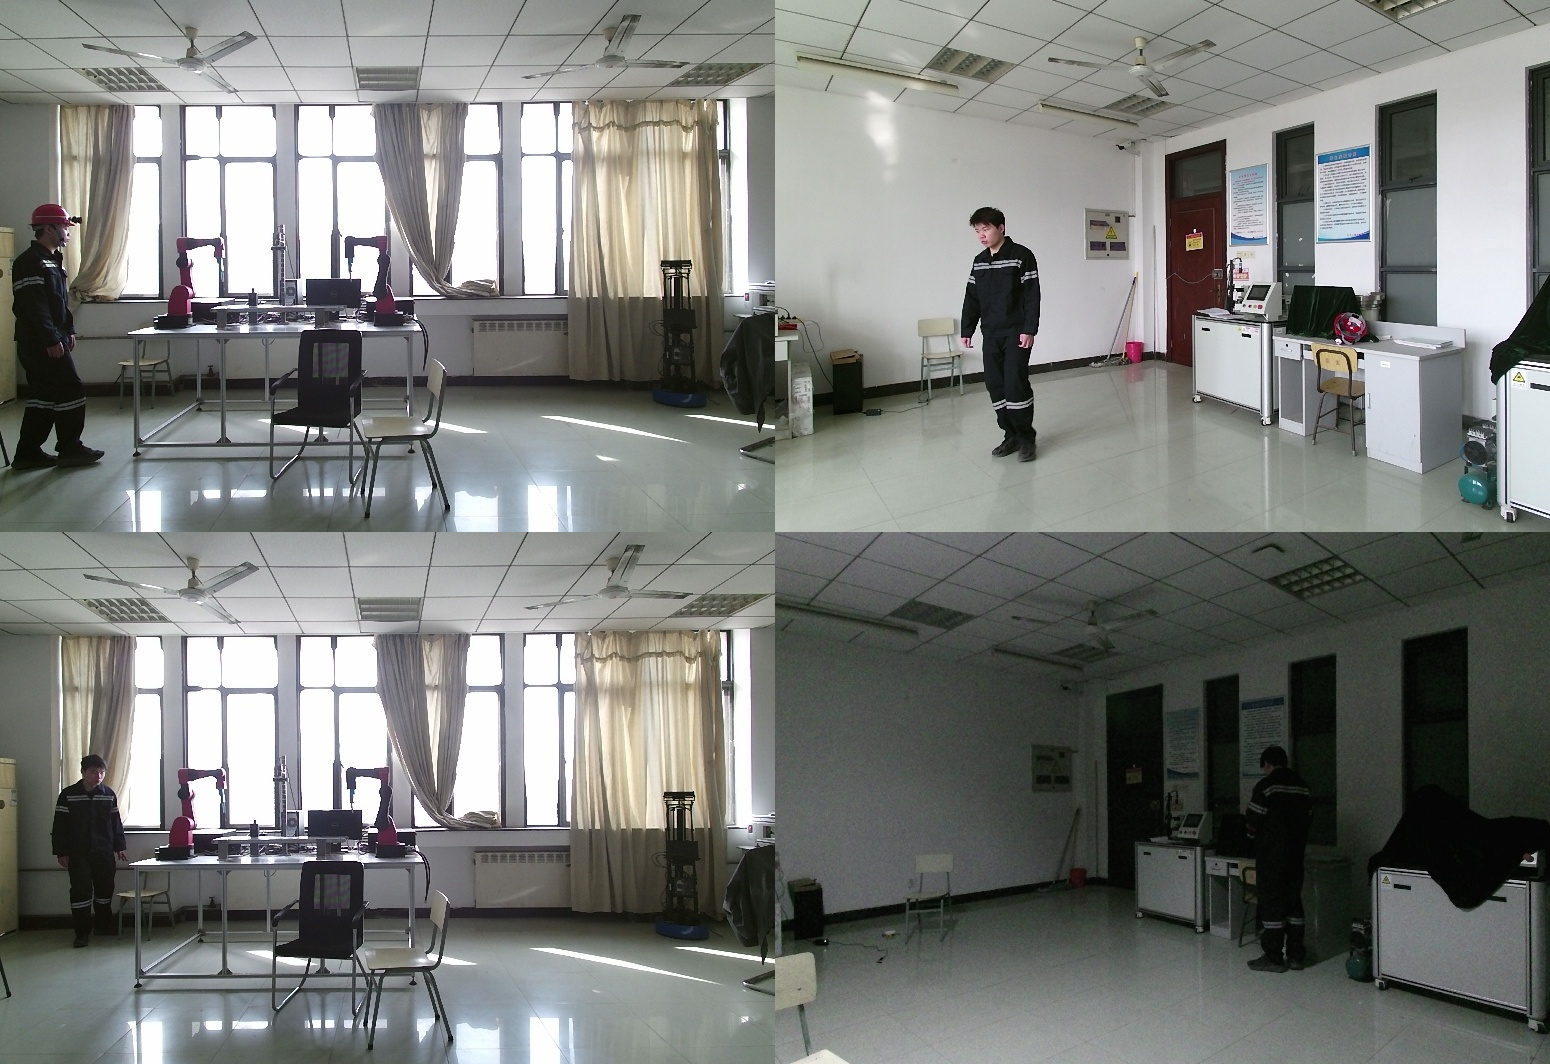person: (7, 204, 114, 468), (962, 207, 1064, 458), (1244, 746, 1338, 969), (42, 756, 127, 947)
